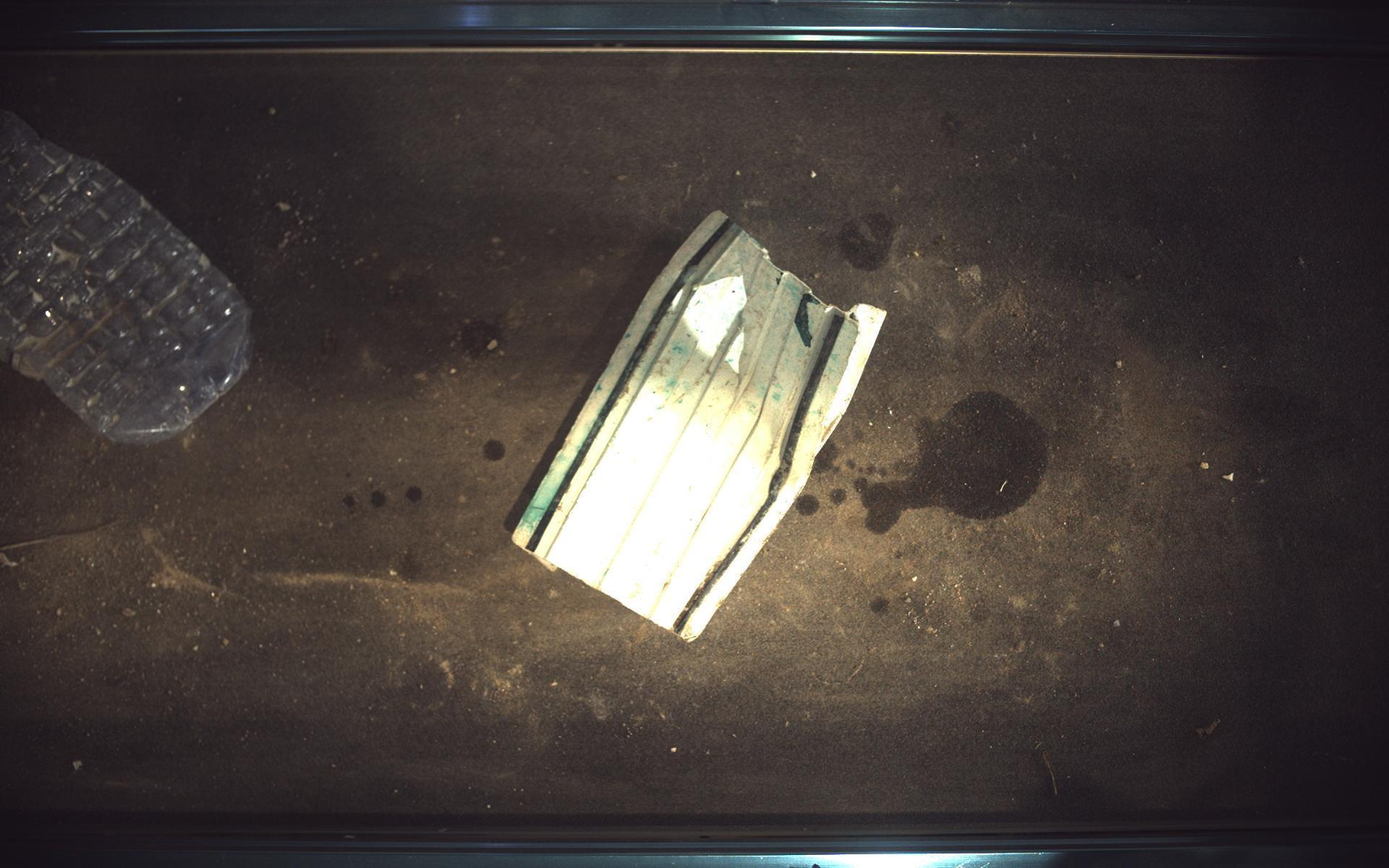plastic: (513, 210, 887, 641)
